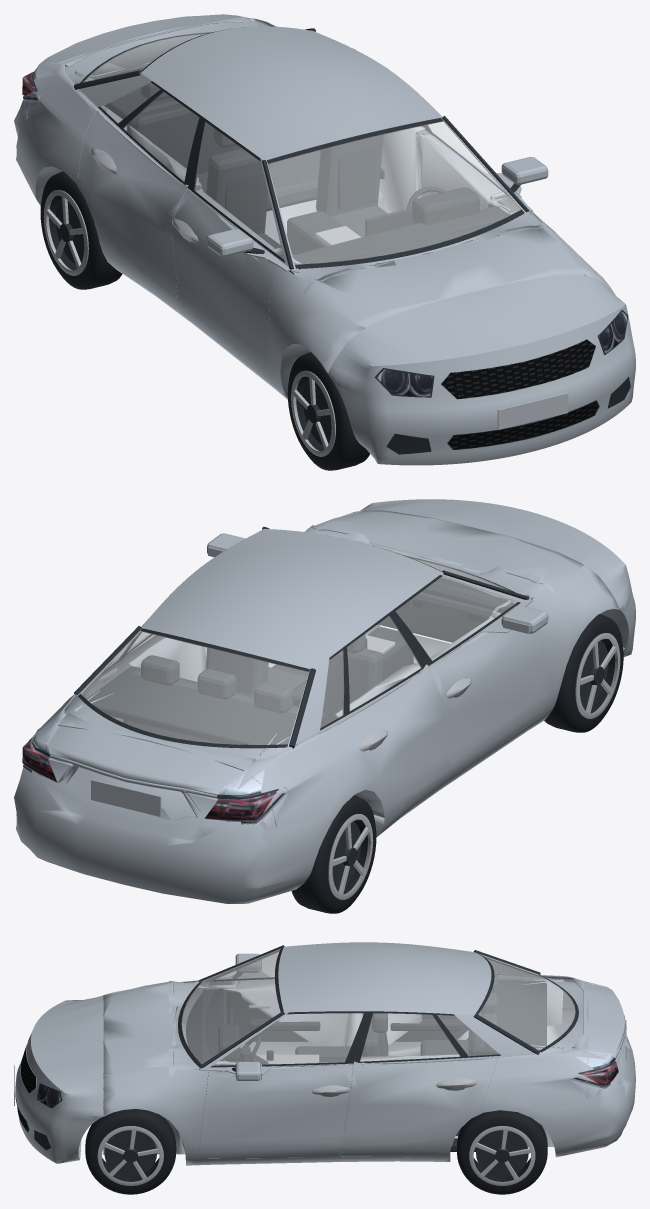
The model's file is BoraS2_FitFix.glb.
The picture shows the model from 3 angles, top to bottom: view 1: azimuth 30°, elevation 25°; view 2: azimuth 150°, elevation 25°; view 3: azimuth 270°, elevation 25°; orthographic projection. The views are drawn at different scales.
Parts seen in each view (by area): view 1: Front_continuous_fitted_skin, Body_paint, Roof_source_fitted_crown, Front_Glass, DoorRR_paint, DoorFR_paint, R_FrontGlass, Front_grille_shallow_panel, R_RearGlass, WheelFR_Tire, DoorFL_paint, Dashboard_upper (+33 smaller); view 2: Body_paint, Roof_source_fitted_crown, Rear_Glass, DoorRR_paint, DoorFR_paint, Rear_parcel_shelf, Front_continuous_fitted_skin, R_FrontGlass, R_RearGlass, WheelRR_Tire, WheelFR_Tire, Dashboard_lower (+23 smaller); view 3: Body_paint, Roof_source_fitted_crown, DoorFL_paint, DoorRL_paint, Front_continuous_fitted_skin, Front_Glass, Rear_Glass, L_FrontGlass, L_RearGlass, WheelFL_Tire, WheelRL_Tire, DoorFR_paint (+30 smaller).
Boxes of the visible parts, x1,y1,x2,y2 form: Front_continuous_fitted_skin: (328, 274, 635, 465); Body_paint: (14, 14, 615, 399); Roof_source_fitted_crown: (141, 26, 442, 160); Front_Glass: (268, 121, 521, 264); DoorRR_paint: (78, 111, 201, 314); DoorFR_paint: (172, 185, 299, 385); R_FrontGlass: (194, 122, 283, 259); Front_grille_shallow_panel: (441, 339, 595, 399); R_RearGlass: (123, 91, 198, 181); WheelFR_Tire: (287, 352, 369, 470); DoorFL_paint: (416, 131, 531, 214); Dashboard_upper: (292, 206, 509, 264); Body_paint: (14, 510, 619, 903); Roof_source_fitted_crown: (141, 529, 442, 669); Rear_Glass: (81, 631, 308, 744); DoorRR_paint: (326, 663, 451, 825); DoorFR_paint: (429, 600, 547, 781); Rear_parcel_shelf: (86, 666, 325, 744); Front_continuous_fitted_skin: (360, 499, 635, 656); R_FrontGlass: (396, 576, 517, 660); R_RearGlass: (347, 616, 421, 710); WheelRR_Tire: (291, 795, 376, 913); WheelFR_Tire: (544, 614, 623, 732); Dashboard_lower: (378, 582, 513, 642); Body_paint: (103, 975, 635, 1165); Roof_source_fitted_crown: (278, 942, 491, 1015); DoorFL_paint: (198, 1061, 352, 1158); DoorRL_paint: (341, 1054, 497, 1157); Front_continuous_fitted_skin: (15, 995, 103, 1163); Front_Glass: (181, 949, 280, 1063); Rear_Glass: (478, 954, 575, 1050); L_FrontGlass: (213, 1013, 363, 1065); L_RearGlass: (360, 1013, 459, 1061); WheelFL_Tire: (85, 1109, 176, 1194); WheelRL_Tire: (457, 1110, 547, 1194); DoorFR_paint: (207, 976, 347, 1054).
Size of the model in its own units: 2.12 by 1.48 by 4.63.
Materials: 12 (5 with a texture image).
